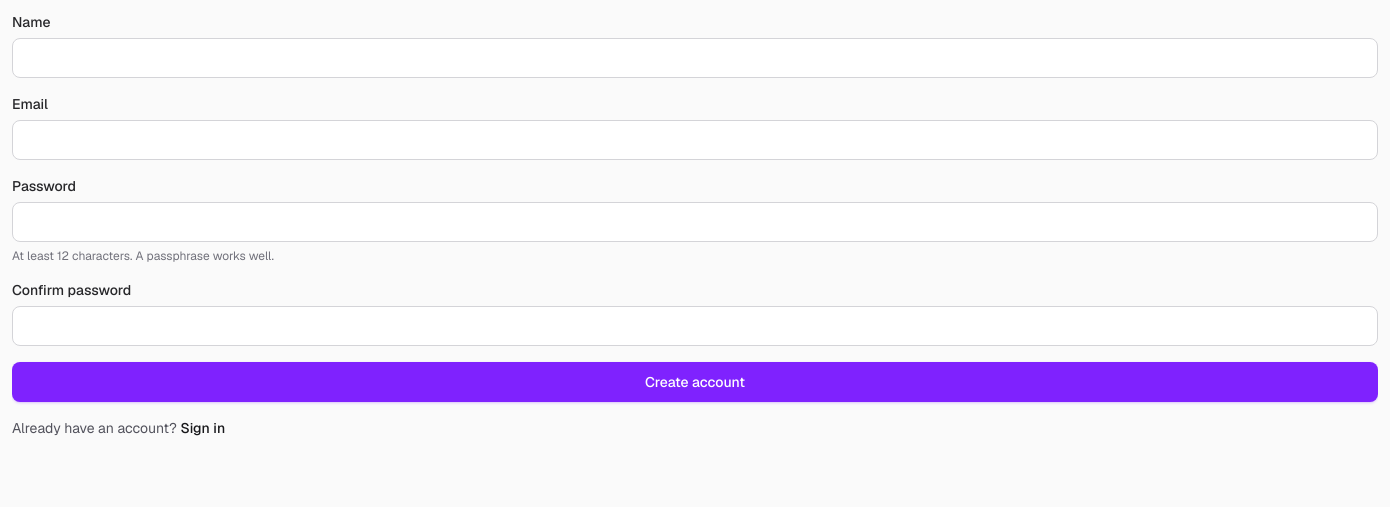
it: RegisterForm › shows server-side field errors
In the field labelled "Name": [695, 58] box [12,38,1378,78], type "Jane"
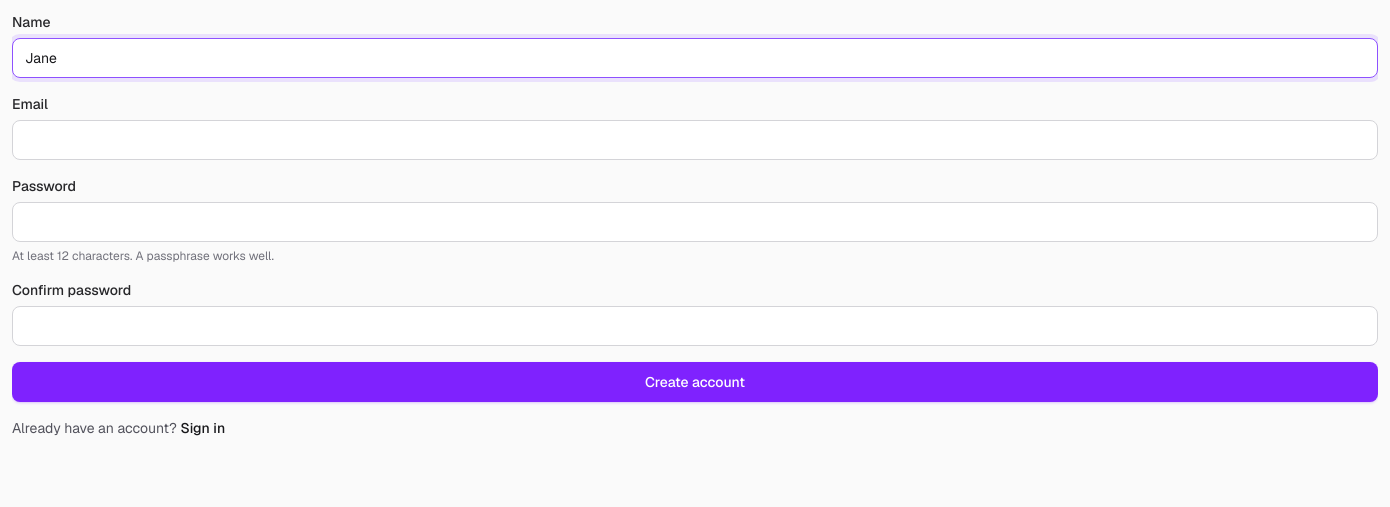
In the field labelled "Email": [695, 140] box [12,120,1378,160], type "jane.doe@example.com"
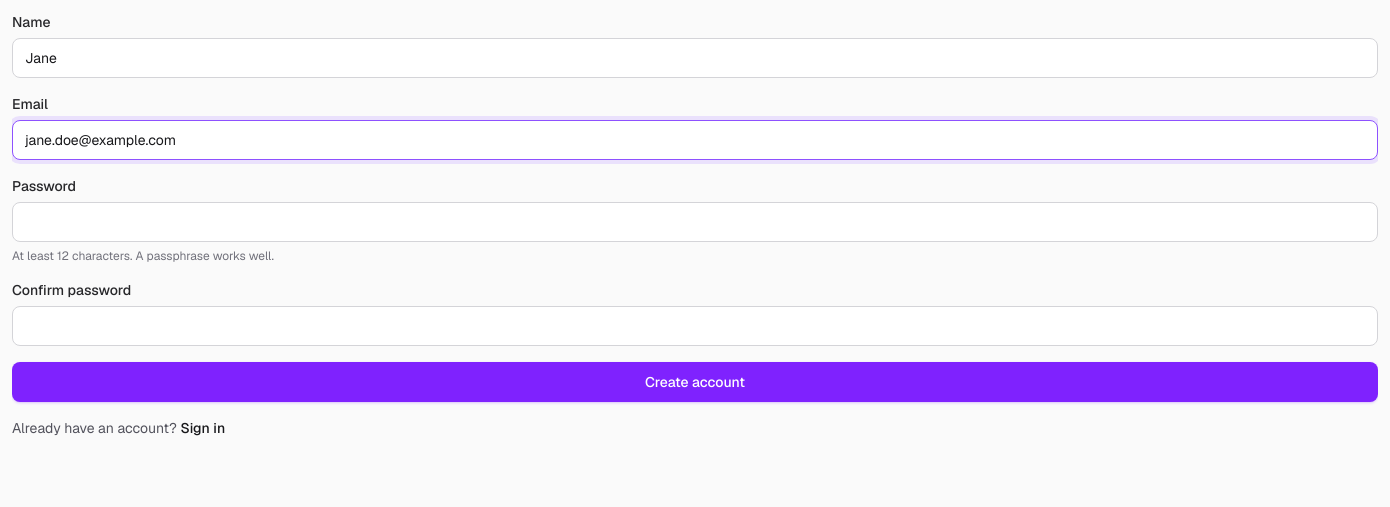
In the password field labelled "Password": [695, 222] box [12,202,1378,242], type "jane.doe-passphrase"
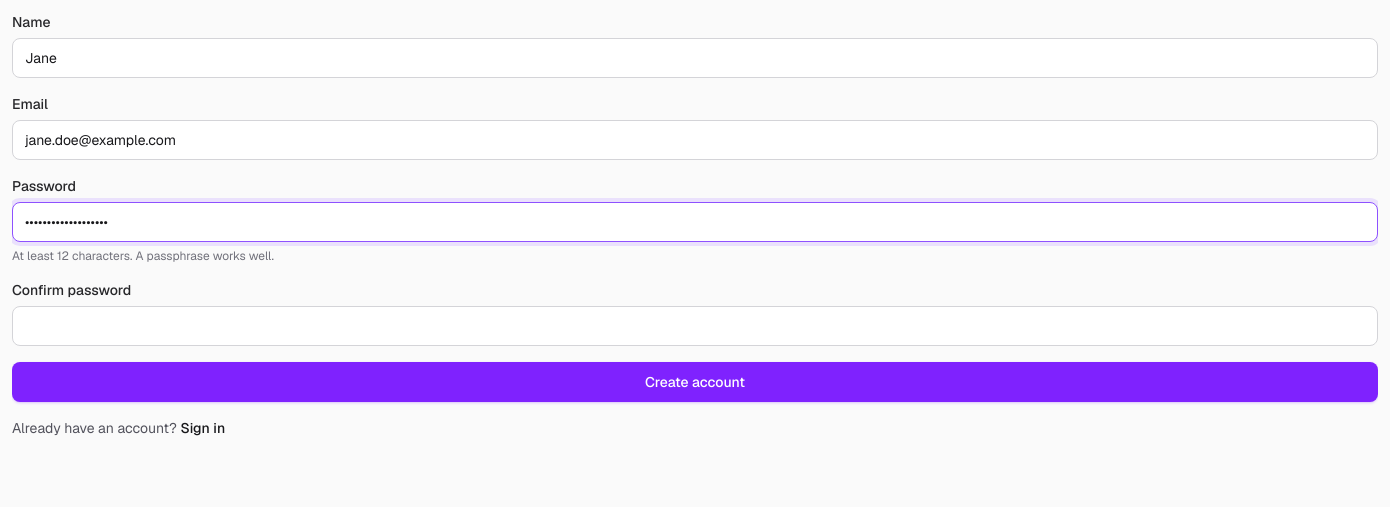
In the password field labelled "Confirm password": [695, 326] box [12,306,1378,346], type "jane.doe-passphrase"
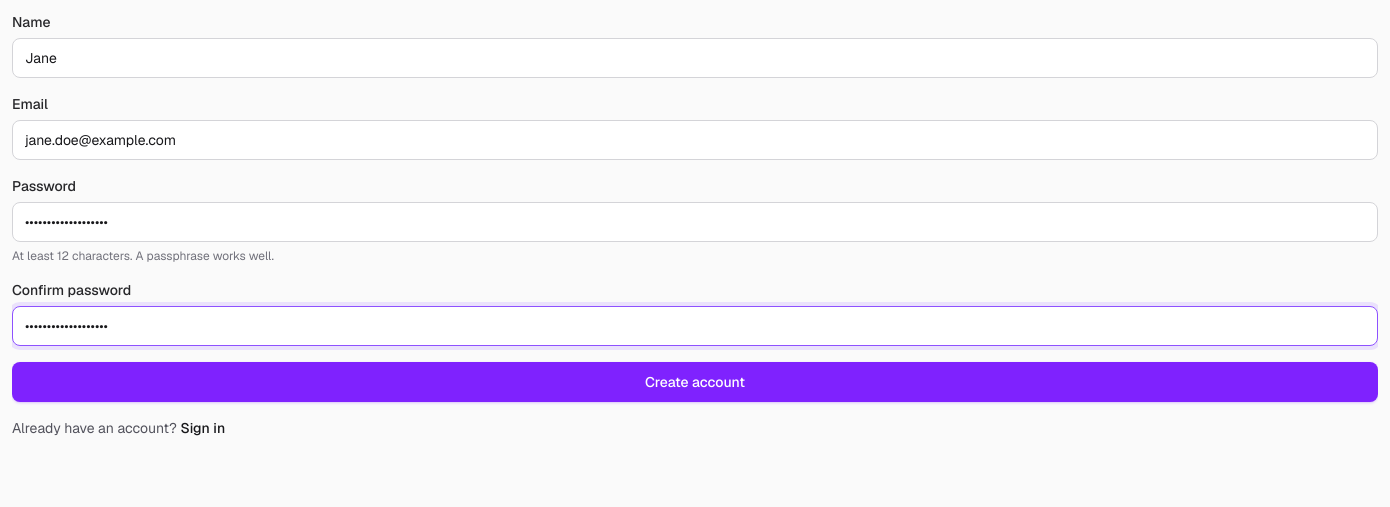
Click the button "Create account": [695, 382] box [12,362,1378,402]
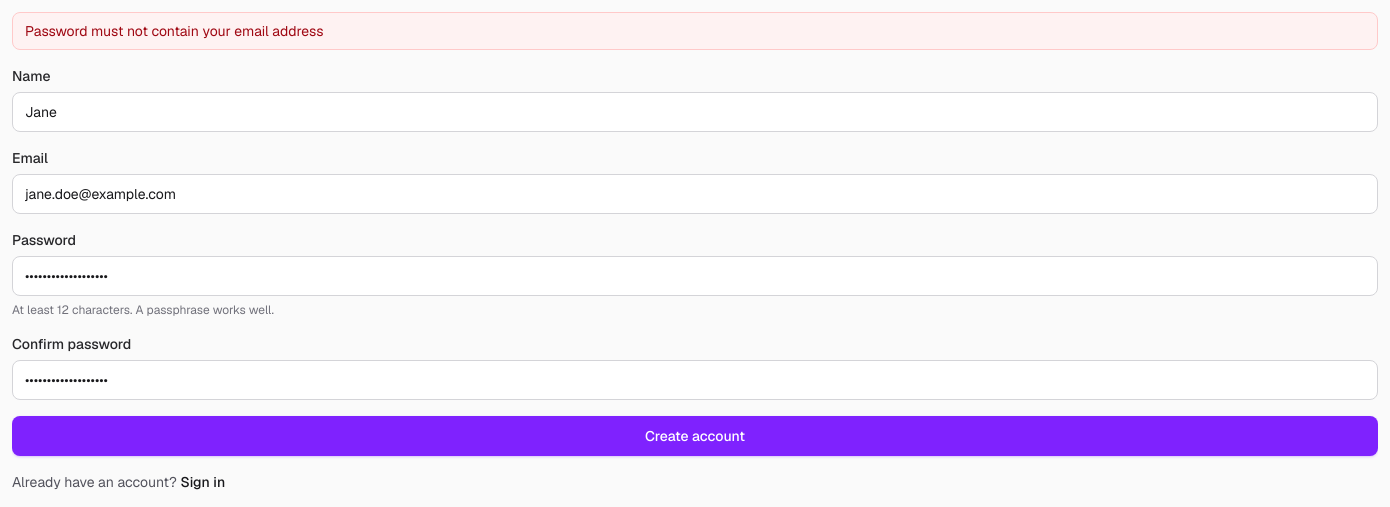
Now the message reads "Password must not contain your email address", box [25,22,324,40]
